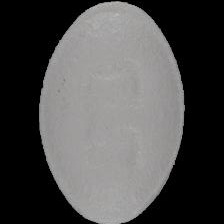54868-4421: (0, 0, 224, 224)
